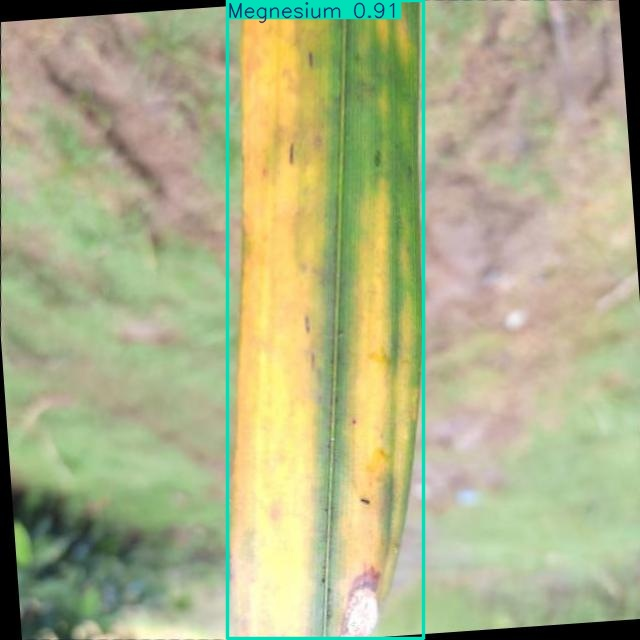Megnesium: (228, 1, 424, 638)
